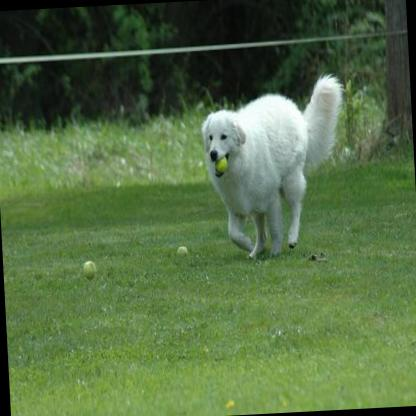kuvasz: (195, 69, 349, 265)
